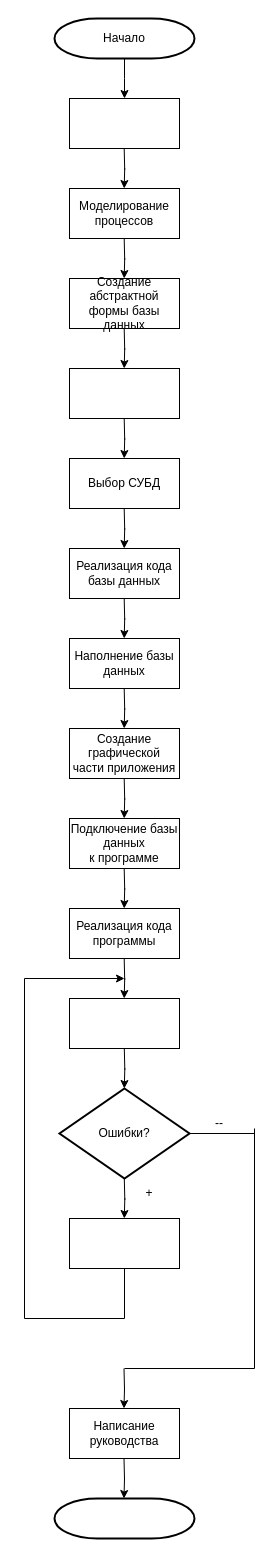
The diagram is 273 pixels wide and 1556 high, and some of its shapes have lost their labels. The shapes that lost their labels are listed below. From the top down, each one's centre as x and y in pixels, then its label:
At point 124,123: "Сбор и анализ предметной области".
At point 124,393: "Выбор типа базы данных".
At point 124,1023: "Тестирование работоспособности приложения".
At point 124,1243: "Исправление ошибок кода программы".
At point 124,1518: "Конец".
